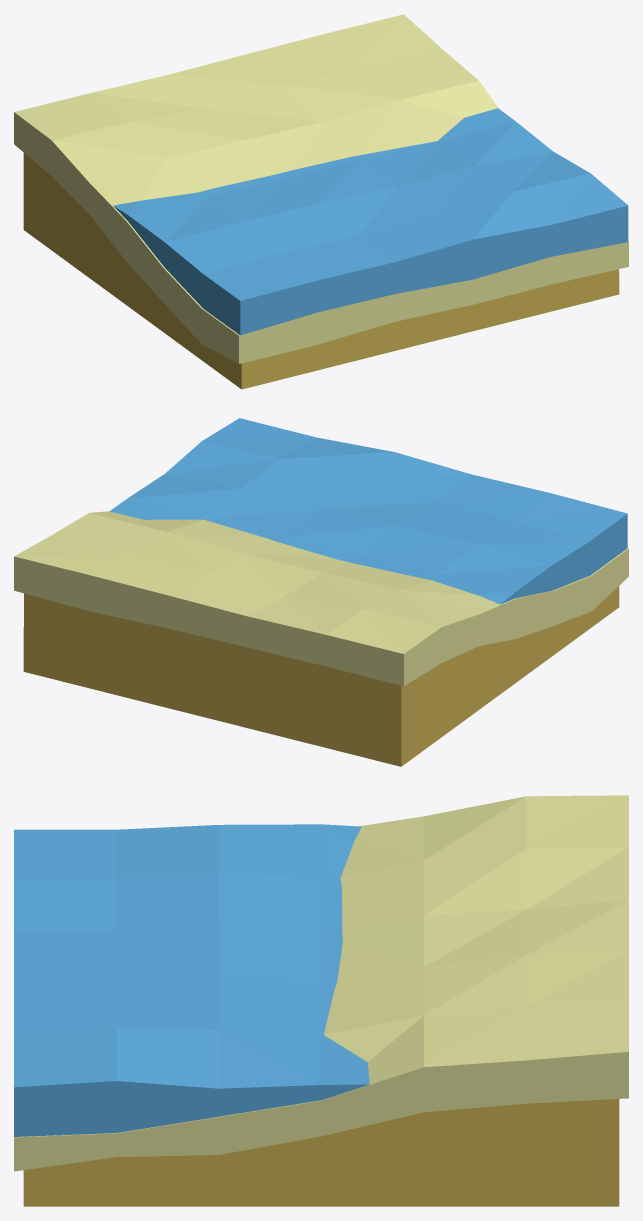
File: world-beach.fbx
The picture shows the model from 3 angles, top to bottom: view 1: azimuth 30°, elevation 25°; view 2: azimuth 150°, elevation 25°; view 3: azimuth 270°, elevation 25°; orthographic projection. The views are drawn at different scales.
Visible parts, largest first — view 1: world-beach; view 2: world-beach; view 3: world-beach.
Boxes of the visible parts, x1=… form: world-beach: x1=14, y1=14, x2=628, y2=389; world-beach: x1=14, y1=418, x2=628, y2=766; world-beach: x1=14, y1=795, x2=628, y2=1206.
Bounding box in the file's own units: 19.61 × 19.61 × 5.74.
